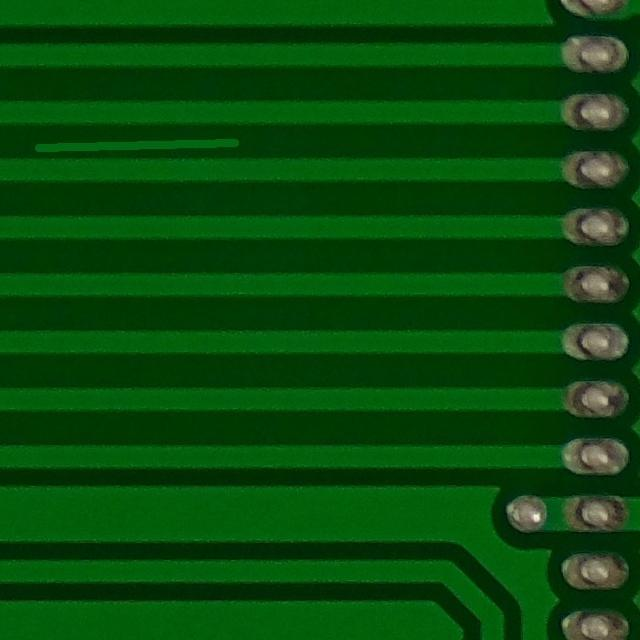spurious_copper: (15, 122, 249, 166)
